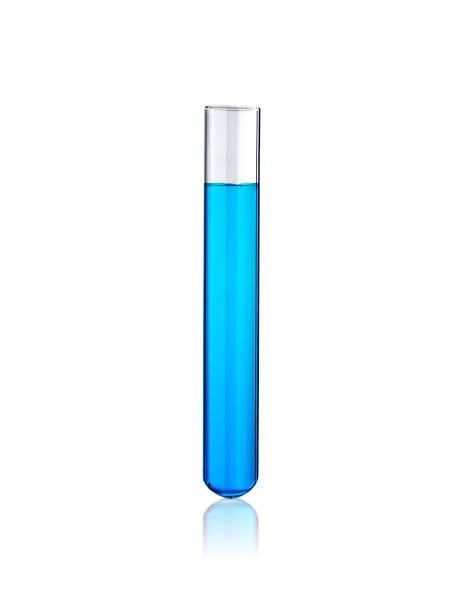Test tube: (169, 68, 290, 524)
